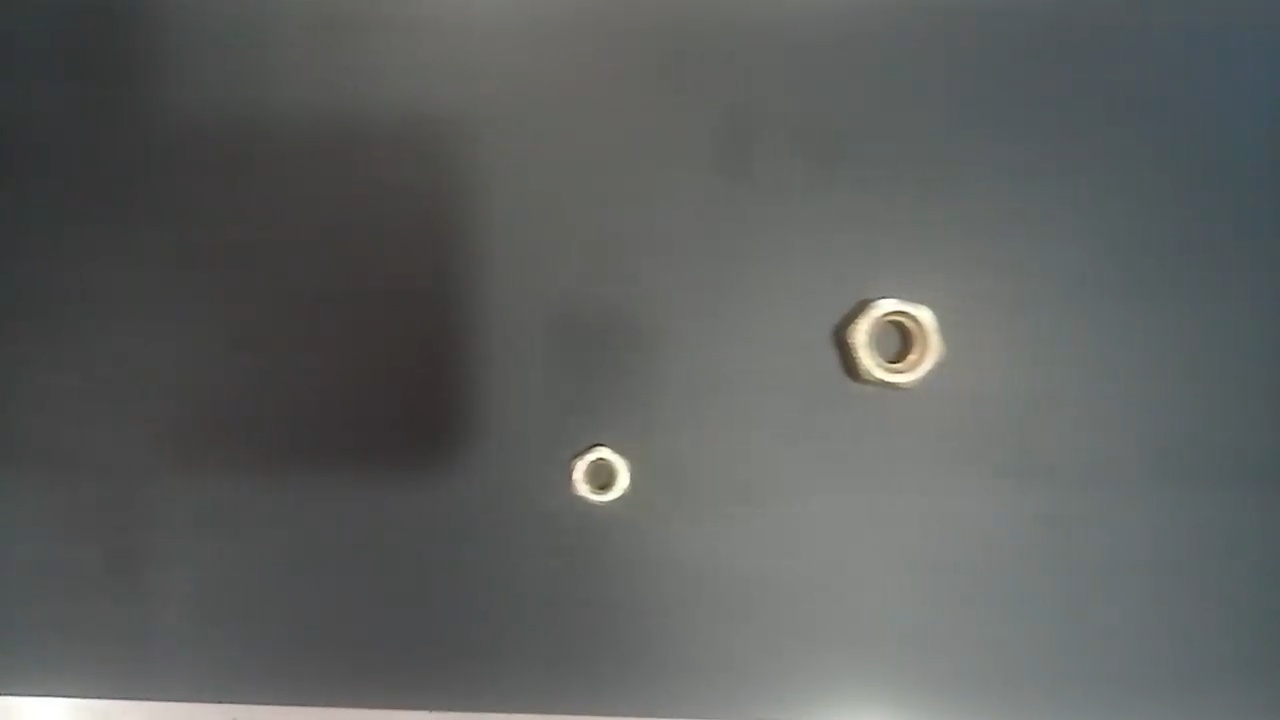Bolt: (840, 294, 948, 393), (567, 443, 632, 508)
